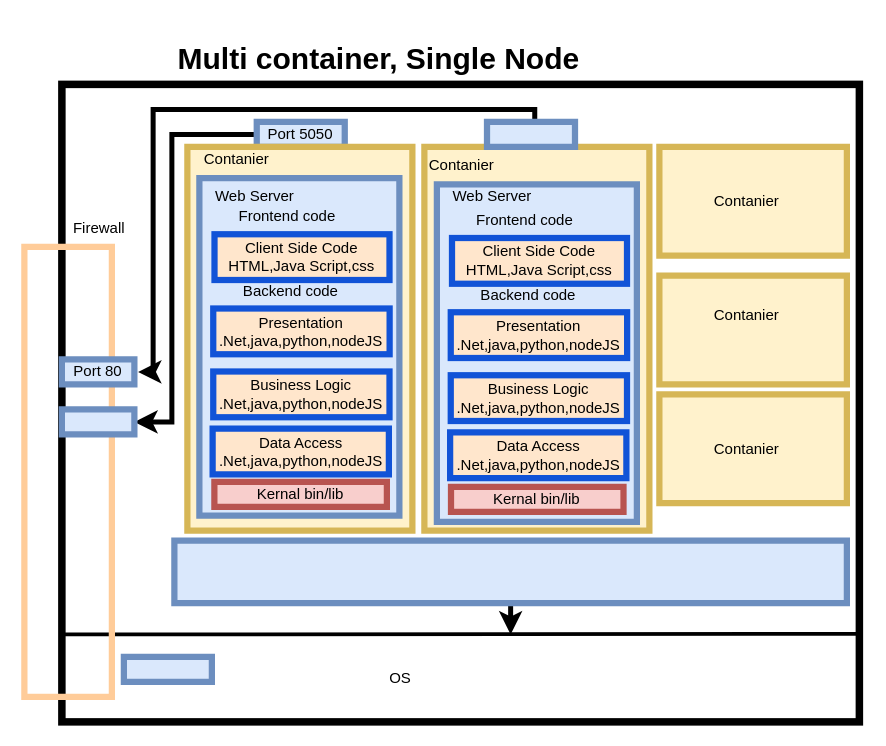
This 886x746 diagram has some shape labels left out. The shapes that lost their labels are listed below. From the top down, each one's centre as x and y in pixels, then its label:
point 530,133: Port 8080
point 97,421: Port 50
point 510,571: Contaniers Engine (Docker)
point 167,668: Port 445
